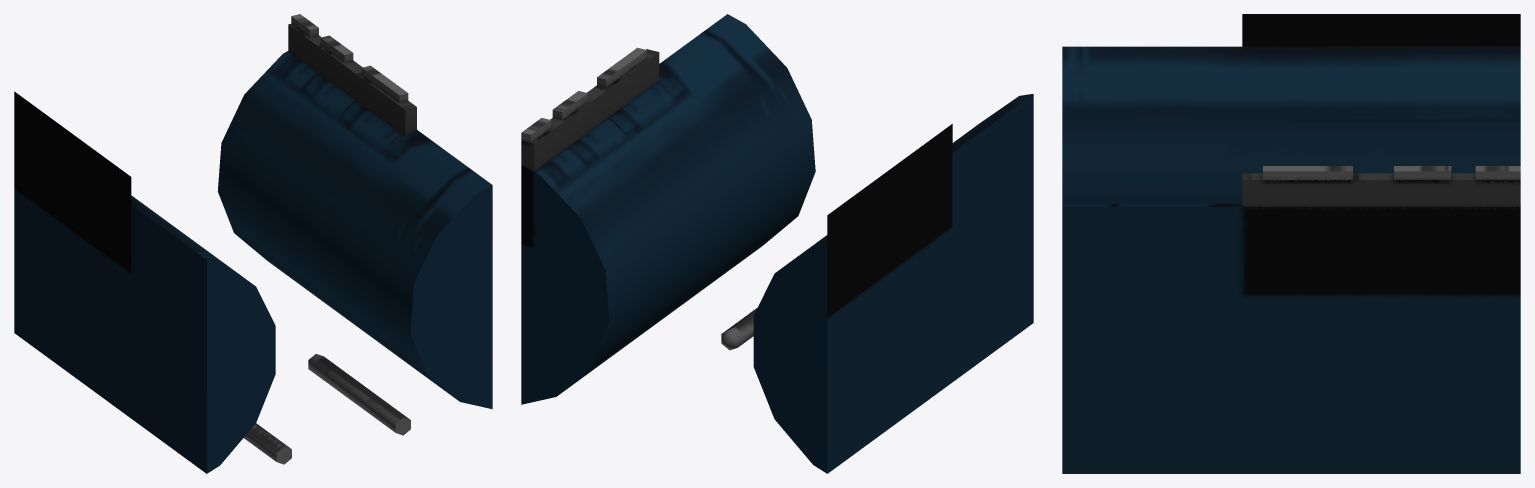
The model's file is newshb-43.glb.
3 renders of one model, left to right at view 1: azimuth 30°, elevation 25°; view 2: azimuth 150°, elevation 25°; view 3: azimuth 270°, elevation 25°, orthographic. The views are drawn at different scales.
Parts seen in each view (by area): view 1: newshb-43; view 2: newshb-43; view 3: newshb-43.
Boxes of the visible parts, x1,y1,x2,y2 form: newshb-43: (14,14,492,473); newshb-43: (521,14,1033,473); newshb-43: (1062,14,1520,473).
Size of the model in its own units: 2 by 1.73 by 2.33.
3 materials, 3 textured.
